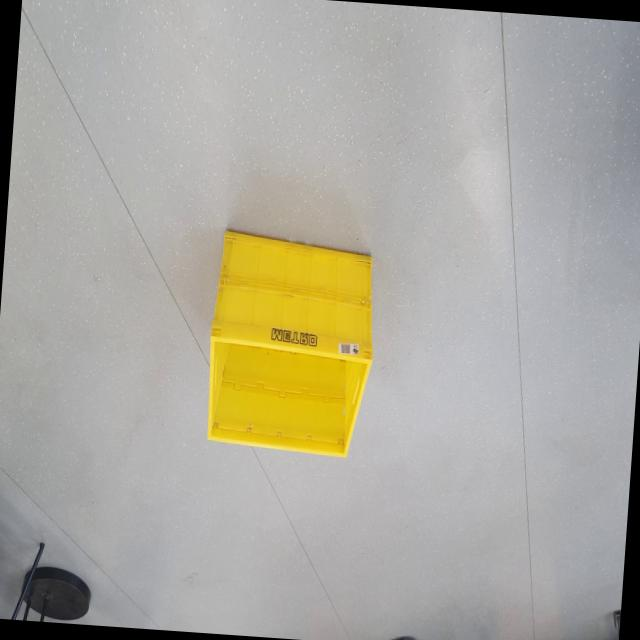box: (196, 228, 383, 472)
